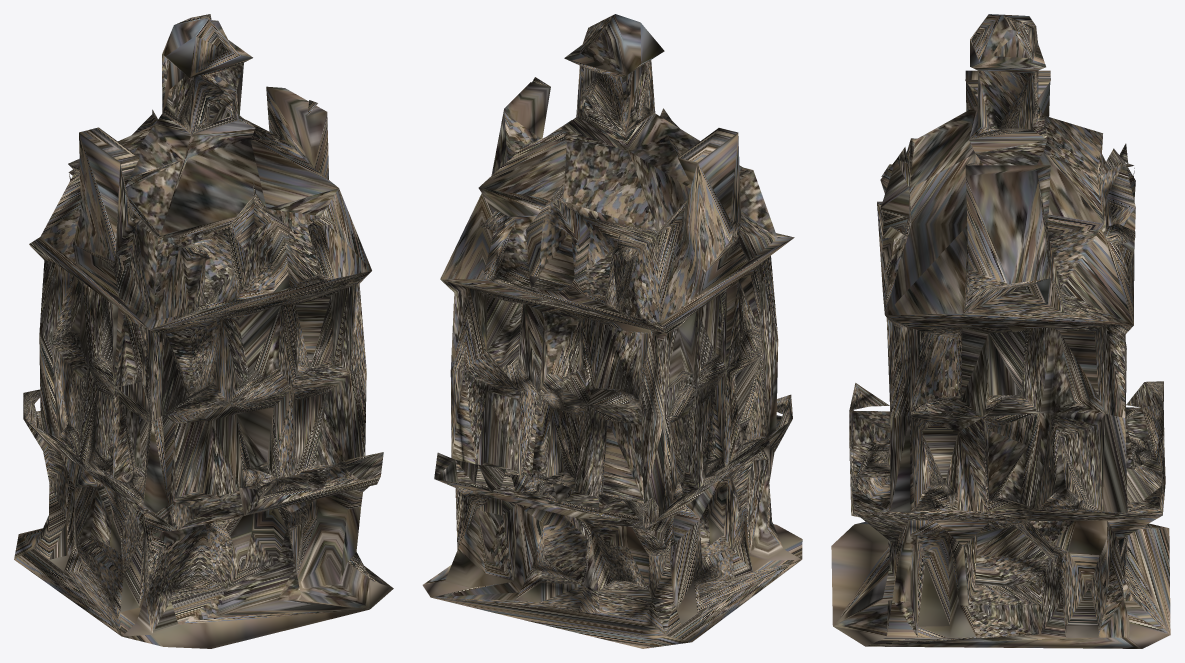
Rendered from A_parisian_building.glb.
The picture shows the model from 3 angles, left to right: view 1: azimuth 30°, elevation 25°; view 2: azimuth 150°, elevation 25°; view 3: azimuth 270°, elevation 25°; orthographic projection. The views are drawn at different scales.
Parts seen in each view (by area): view 1: A_parisian_building; view 2: A_parisian_building; view 3: A_parisian_building.
Boxes of the visible parts, x1,y1,x2,y2 form: A_parisian_building: [14, 14, 393, 648]; A_parisian_building: [422, 14, 802, 648]; A_parisian_building: [831, 14, 1170, 648].
Bounding box in the file's own units: 0.8866 × 1.79 × 0.9617.
1 material, 1 textured.
